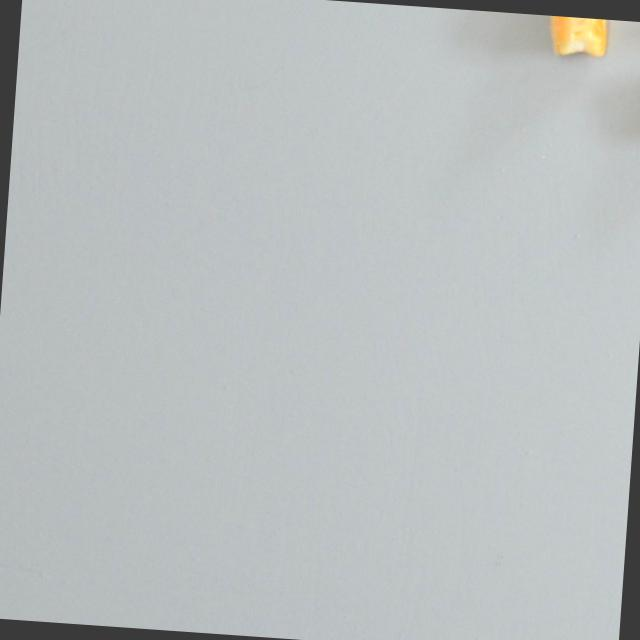pelicula: (538, 15, 624, 64)
